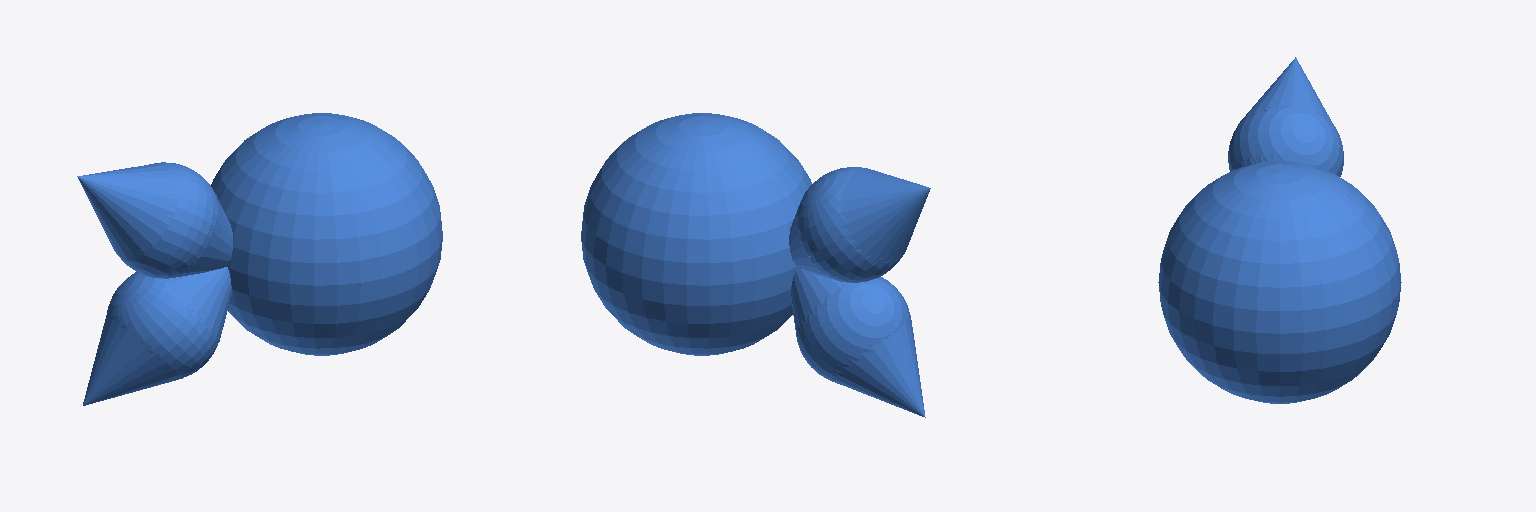
Rendered from fishu.obj.
3 renders of one model, left to right at view 1: azimuth 30°, elevation 25°; view 2: azimuth 150°, elevation 25°; view 3: azimuth 270°, elevation 25°, orthographic.
Visible parts, largest first — view 1: Sphere001, Cone005, Sphere002, Sphere003, Cone002, Cone003, Cone004; view 2: Sphere001, Sphere002, Cone005, Sphere003, Cone002, Cone003, Cone004; view 3: Sphere001, Sphere003, Cone005.
Boxes of the visible parts, <box> form: Sphere001: <box>211,113,442,355</box>; Cone005: <box>77,164,178,258</box>; Sphere002: <box>107,272,218,378</box>; Sphere003: <box>115,162,220,278</box>; Cone002: <box>83,312,182,405</box>; Cone003: <box>158,267,231,341</box>; Cone004: <box>168,196,232,278</box>; Sphere001: <box>581,113,811,355</box>; Sphere002: <box>796,277,910,383</box>; Cone005: <box>832,167,930,265</box>; Sphere003: <box>796,167,902,282</box>; Cone002: <box>829,315,925,417</box>; Cone003: <box>791,267,855,336</box>; Cone004: <box>789,213,834,279</box>; Sphere001: <box>1158,161,1401,403</box>; Sphere003: <box>1228,105,1343,176</box>; Cone005: <box>1237,57,1331,126</box>.
Size of the model in its own units: 86.5 by 55.96 by 53.27.